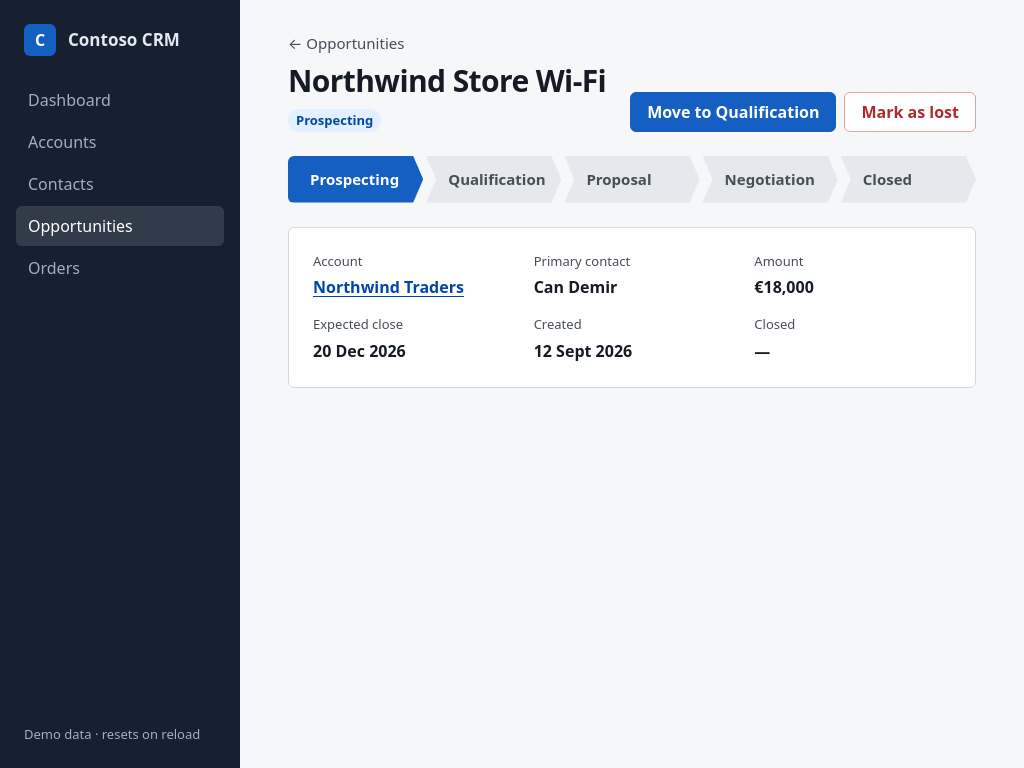
Test case: Opportunity detail › advances the stage when the user moves it forward
The width and height of the screenshot is (1024, 768).
Click the button "Move to Qualification" at x=733, y=112, box top-left (630, 92), bottom-right (836, 132)
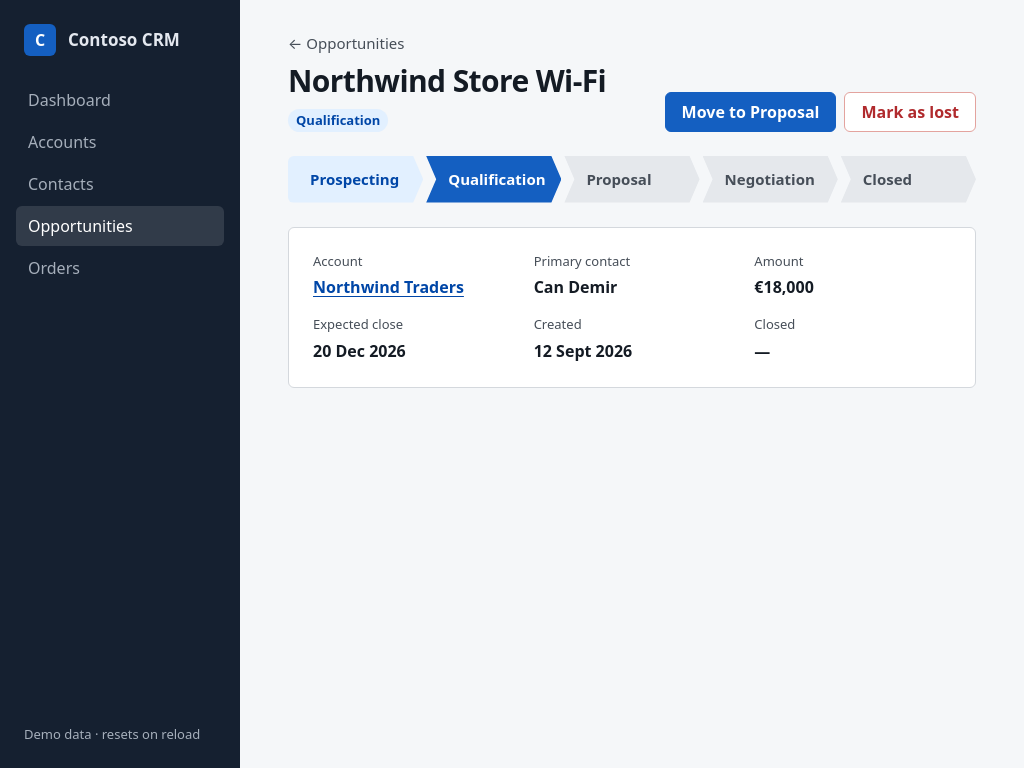
Now the button "Move to Proposal" is shown, box top-left (665, 92), bottom-right (836, 132)
